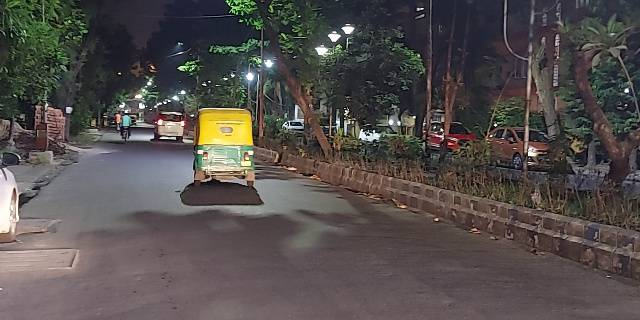Autorickshaw: (191, 106, 253, 186)
Car: (152, 108, 186, 142)
